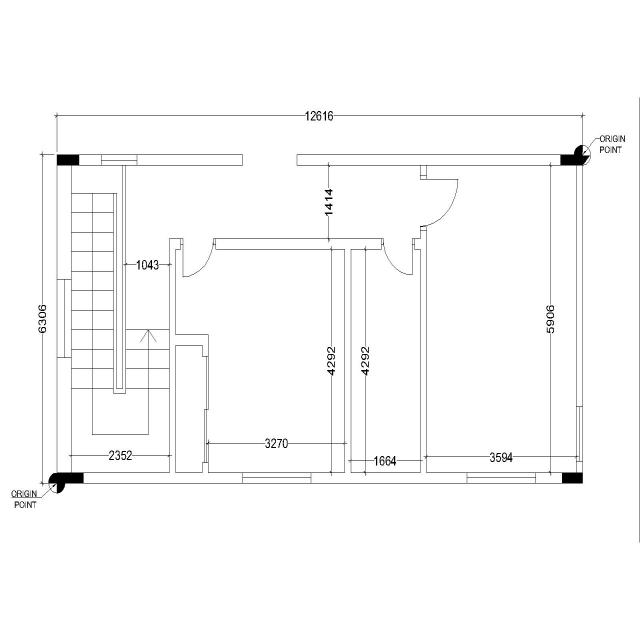Column: (56, 472, 84, 483), (560, 154, 583, 166), (57, 154, 79, 166), (562, 472, 583, 483)
Door: (420, 176, 459, 230), (180, 238, 216, 278), (381, 238, 415, 276)
Sliding Door: (202, 356, 208, 463)
Staircase: (72, 165, 169, 472)
Window: (56, 279, 72, 358), (242, 472, 312, 483), (467, 472, 536, 483), (101, 154, 137, 166), (576, 406, 583, 462)
